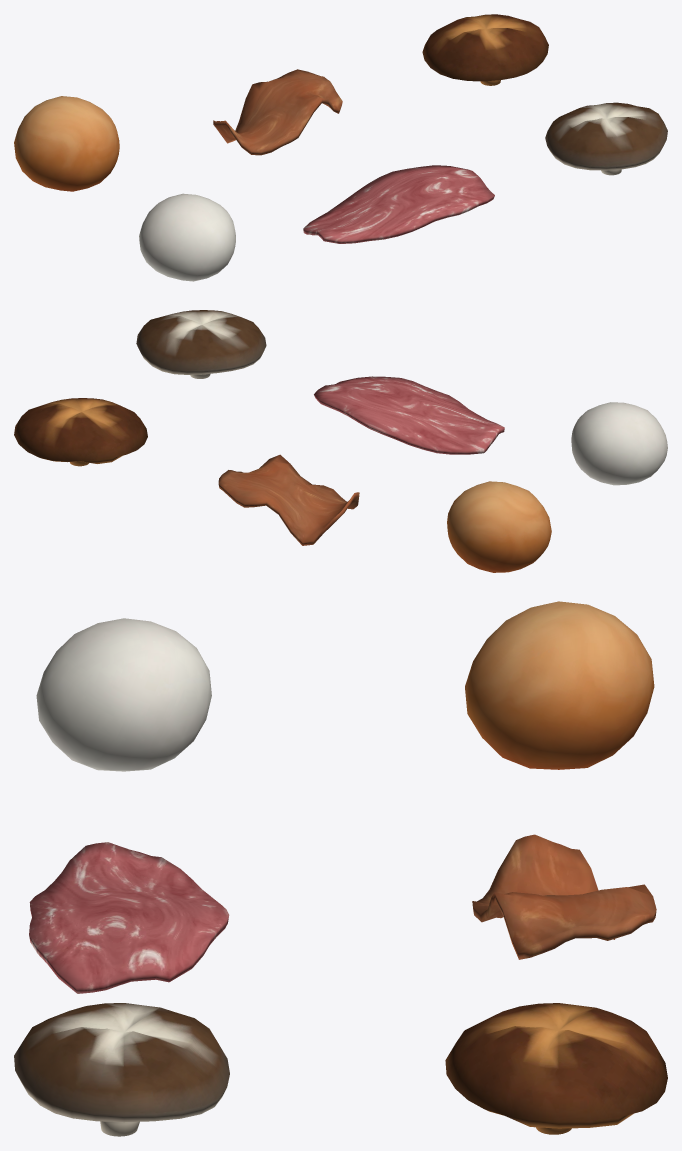
Rendered from Phase0_Ingredients.glb.
3 renders of one model, top to bottom at view 1: azimuth 30°, elevation 25°; view 2: azimuth 150°, elevation 25°; view 3: azimuth 270°, elevation 25°, orthographic. The views are drawn at different scales.
Parts seen in each view (by area): view 1: PorkSlice_Raw, FishBall_Cooked, Shiitake_Cooked, Shiitake_Raw, FishBall_Raw, PorkSlice_Cooked; view 2: PorkSlice_Raw, FishBall_Cooked, Shiitake_Cooked, Shiitake_Raw, FishBall_Raw, PorkSlice_Cooked; view 3: FishBall_Cooked, Shiitake_Cooked, Shiitake_Raw, PorkSlice_Raw, FishBall_Raw, PorkSlice_Cooked.
Part boxes in pixels (left/top/right/bottom): PorkSlice_Raw: left=303, top=165, right=494, bottom=243; FishBall_Cooked: left=14, top=96, right=119, bottom=191; Shiitake_Cooked: left=422, top=14, right=548, bottom=85; Shiitake_Raw: left=545, top=102, right=667, bottom=175; FishBall_Raw: left=139, top=193, right=235, bottom=281; PorkSlice_Cooked: left=213, top=69, right=342, bottom=155; PorkSlice_Raw: left=314, top=376, right=504, bottom=454; FishBall_Cooked: left=447, top=481, right=551, bottom=572; Shiitake_Cooked: left=14, top=398, right=147, bottom=466; Shiitake_Raw: left=136, top=310, right=266, bottom=378; FishBall_Raw: left=571, top=402, right=667, bottom=485; PorkSlice_Cooked: left=218, top=454, right=359, bottom=545; FishBall_Cooked: left=465, top=601, right=654, bottom=769; Shiitake_Cooked: left=445, top=1003, right=667, bottom=1134; Shiitake_Raw: left=14, top=1003, right=229, bottom=1136; PorkSlice_Raw: left=29, top=842, right=229, bottom=993; FishBall_Raw: left=36, top=618, right=211, bottom=771; PorkSlice_Cooked: left=472, top=834, right=656, bottom=959.
Size of the model in its own units: 0.2758 by 0.0469 by 0.1655.
6 materials, 6 textured.
